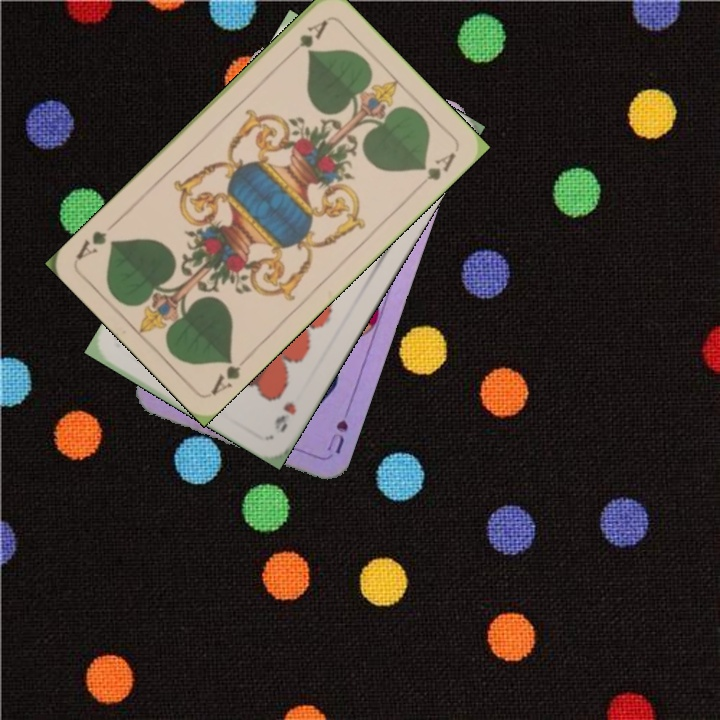GA: (283, 16, 331, 61), (206, 352, 244, 399)
H9: (270, 398, 300, 435)
SU: (323, 398, 352, 457)
